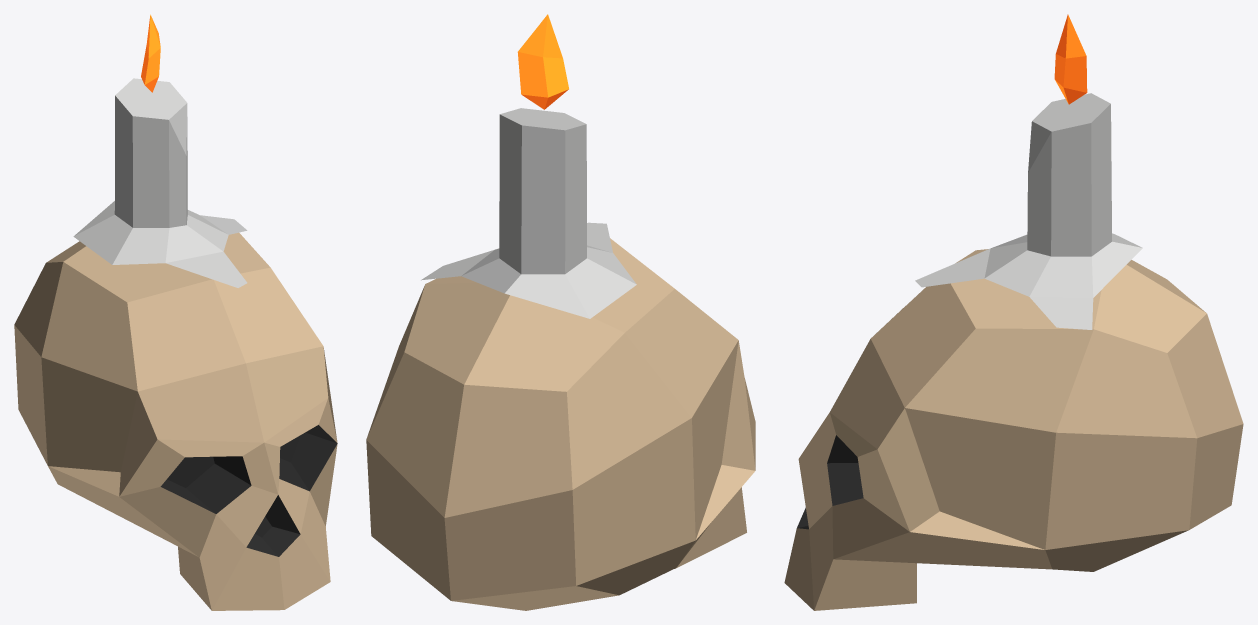
File: fantasy_skull-human-candle.fbx
The picture shows the model from 3 angles, left to right: view 1: azimuth 30°, elevation 25°; view 2: azimuth 150°, elevation 25°; view 3: azimuth 270°, elevation 25°; orthographic projection. The views are drawn at different scales.
Visible parts, largest first — view 1: fantasy_skull_human_candle; view 2: fantasy_skull_human_candle; view 3: fantasy_skull_human_candle.
Boxes of the visible parts, x1=… form: fantasy_skull_human_candle: x1=14, y1=14, x2=337, y2=610; fantasy_skull_human_candle: x1=366, y1=14, x2=755, y2=610; fantasy_skull_human_candle: x1=784, y1=14, x2=1243, y2=610.
Size of the model in its own units: 101 by 200 by 147.
